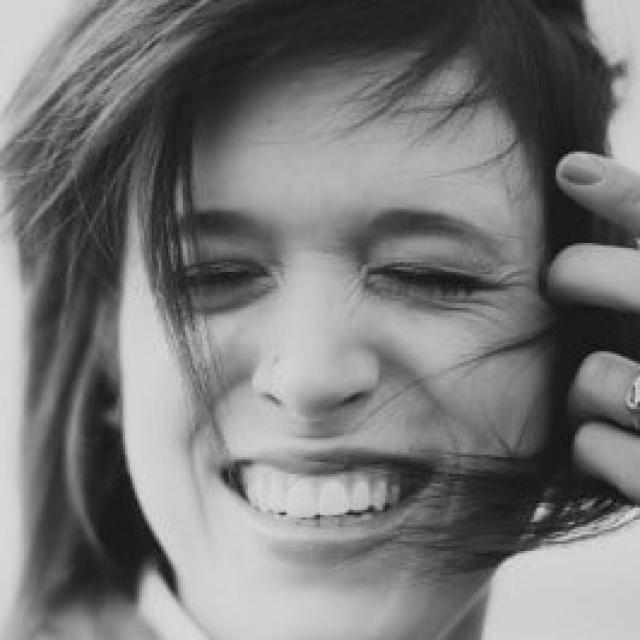Normal: (120, 56, 555, 635)
